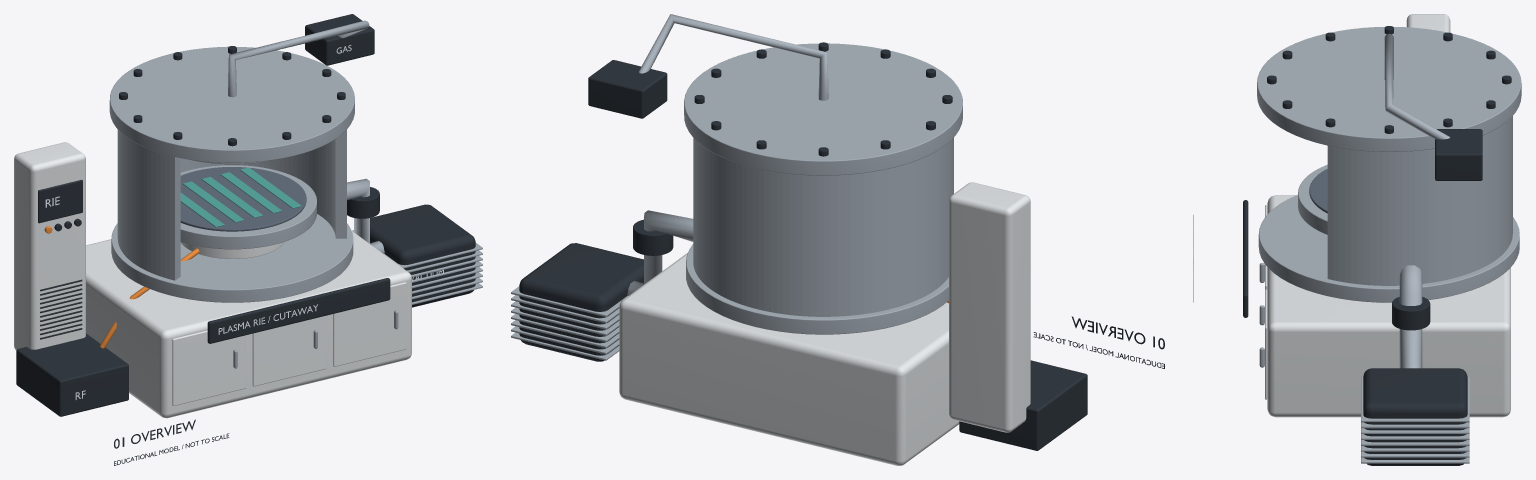
File: rie_01_overview.glb
3 renders of one model, left to right at view 1: azimuth 30°, elevation 25°; view 2: azimuth 150°, elevation 25°; view 3: azimuth 270°, elevation 25°, orthographic. The views are drawn at different scales.
Parts seen in each view (by area): view 1: Lid, Equipment cabinet, Control console, Chamber cutaway wall, Bottom chamber flange, RF generator, Vacuum pump, Wafer, Service access panel, Caption panel, Service access panel.002, Service access panel.001 (+11 smaller); view 2: Equipment cabinet, Chamber cutaway wall, Lid, Control console, Vacuum pump, Bottom chamber flange, RF generator, Mass flow module, Gas supply pipe, Exhaust line, Exhaust valve; view 3: Lid, Equipment cabinet, Chamber cutaway wall, Bottom chamber flange, Vacuum pump, Mass flow module, Exhaust line, Gas supply pipe, RF powered lower electrode, Exhaust valve, Pump cooling fin.007, Caption panel (+9 smaller).
Boxes of the visible parts, left/top/right/bottom form: Lid: left=109, top=46, right=354, bottom=162; Equipment cabinet: left=86, top=231, right=411, bottom=418; Control console: left=14, top=142, right=85, bottom=350; Chamber cutaway wall: left=117, top=129, right=346, bottom=280; Bottom chamber flange: left=111, top=214, right=353, bottom=302; RF generator: left=16, top=333, right=128, bottom=416; Vacuum pump: left=370, top=204, right=475, bottom=307; Wafer: left=180, top=167, right=306, bottom=231; Service access panel: left=172, top=330, right=245, bottom=406; Caption panel: left=207, top=278, right=390, bottom=343; Service access panel.002: left=333, top=282, right=406, bottom=366; Service access panel.001: left=252, top=316, right=326, bottom=386; Equipment cabinet: left=619, top=253, right=959, bottom=465; Chamber cutaway wall: left=693, top=138, right=953, bottom=316; Lid: left=684, top=43, right=962, bottom=175; Control console: left=949, top=182, right=1030, bottom=432; Vacuum pump: left=519, top=243, right=643, bottom=361; Bottom chamber flange: left=686, top=244, right=948, bottom=334; RF generator: left=959, top=360, right=1087, bottom=450; Mass flow module: left=588, top=60, right=667, bottom=118; Gas supply pipe: left=639, top=14, right=828, bottom=100; Exhaust line: left=627, top=210, right=693, bottom=295; Exhaust valve: left=633, top=219, right=673, bottom=255; Lid: left=1257, top=27, right=1521, bottom=151; Equipment cabinet: left=1267, top=195, right=1510, bottom=417; Chamber cutaway wall: left=1327, top=116, right=1512, bottom=285; Bottom chamber flange: left=1258, top=195, right=1519, bottom=302; Vacuum pump: left=1363, top=368, right=1467, bottom=465; Mass flow module: left=1435, top=129, right=1482, bottom=180; Exhaust line: left=1399, top=265, right=1422, bottom=368; Gas supply pipe: left=1384, top=33, right=1449, bottom=139; RF powered lower electrode: left=1298, top=164, right=1327, bottom=234; Exhaust valve: left=1392, top=297, right=1430, bottom=330; Pump cooling fin.007: left=1361, top=376, right=1469, bottom=422; Caption panel: left=1243, top=200, right=1248, bottom=317.
Size of the model in its own units: 6.39 by 4.05 by 3.77.
